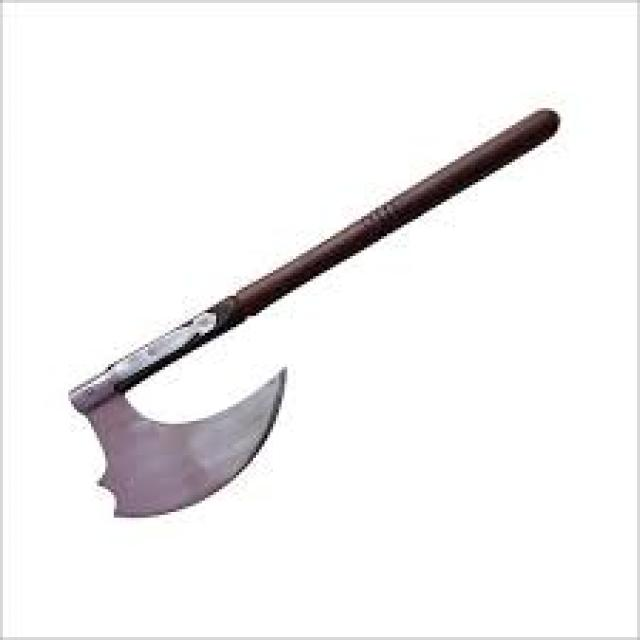Gun: (34, 95, 584, 532)
